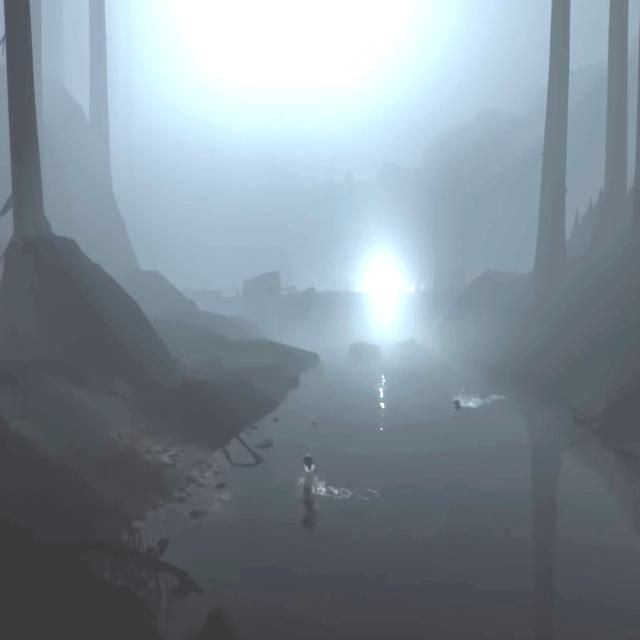boy: (300, 454, 317, 495)
